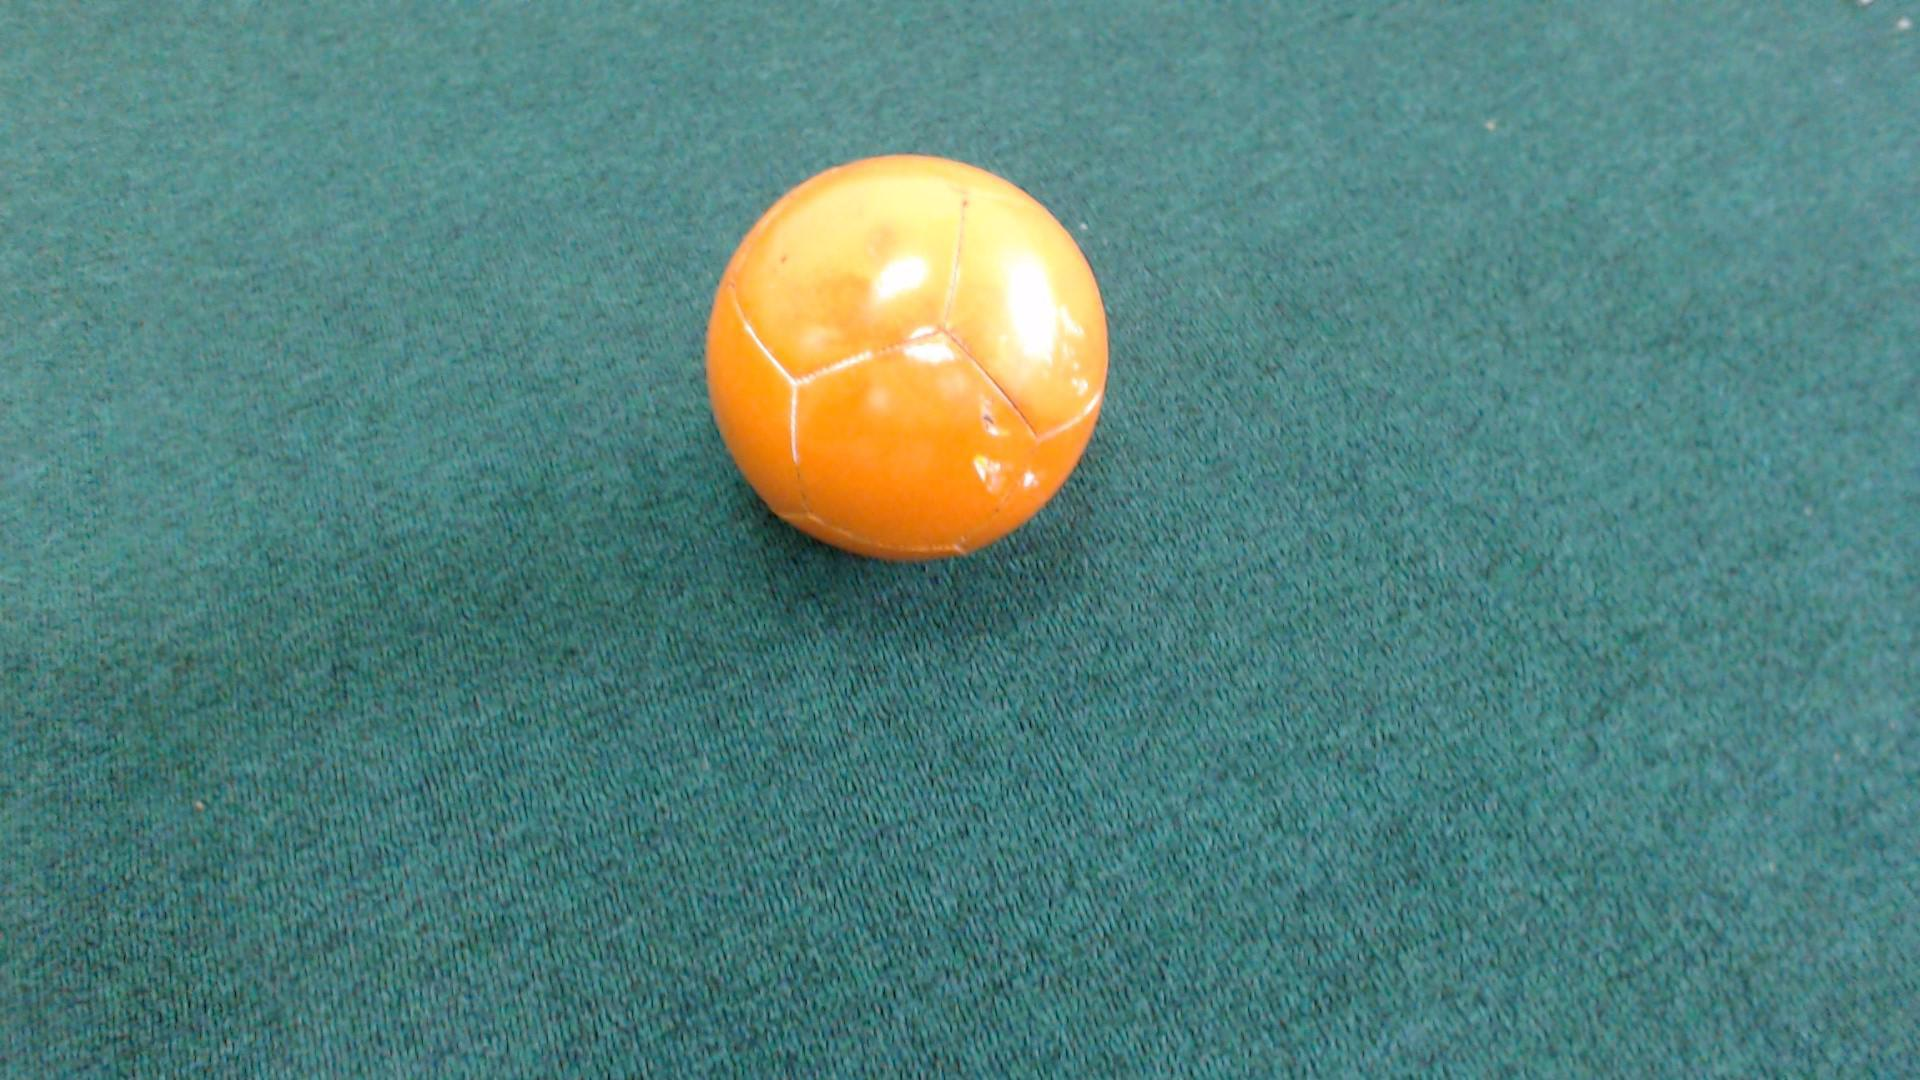bola: (661, 127, 1127, 591)
